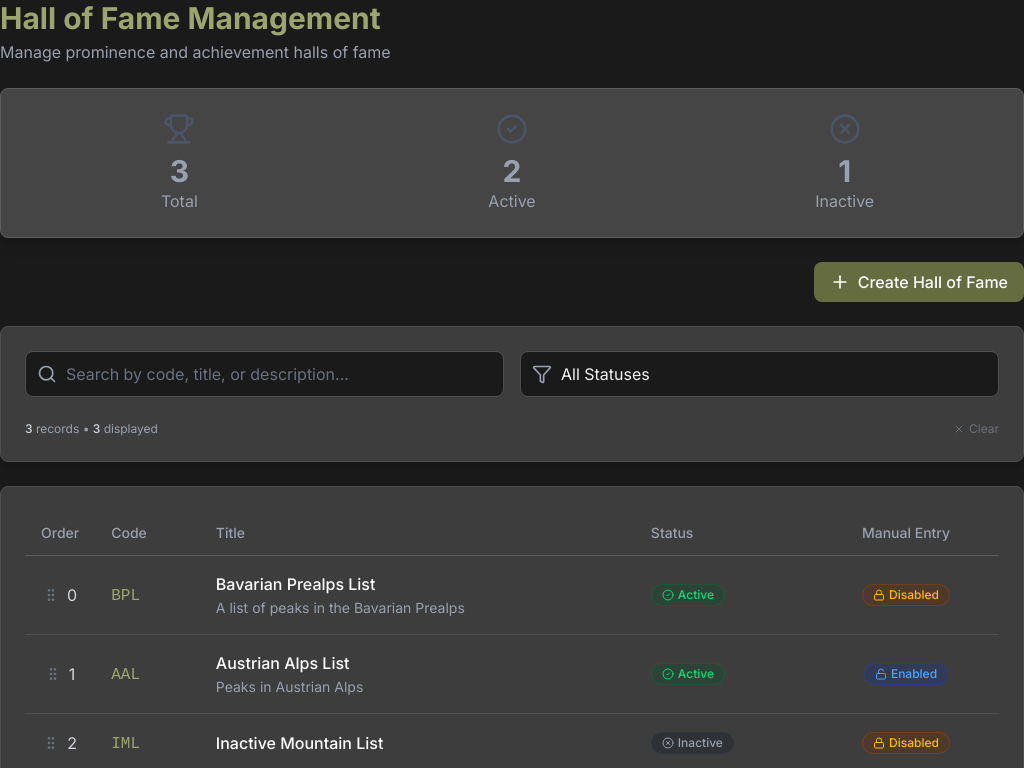
HofManagement › should filter by active status
Expected: the text "BPL" is shown, [111,587,140,605]
Select "Active" in the dropdown at (760, 374), box [520,351,999,397]
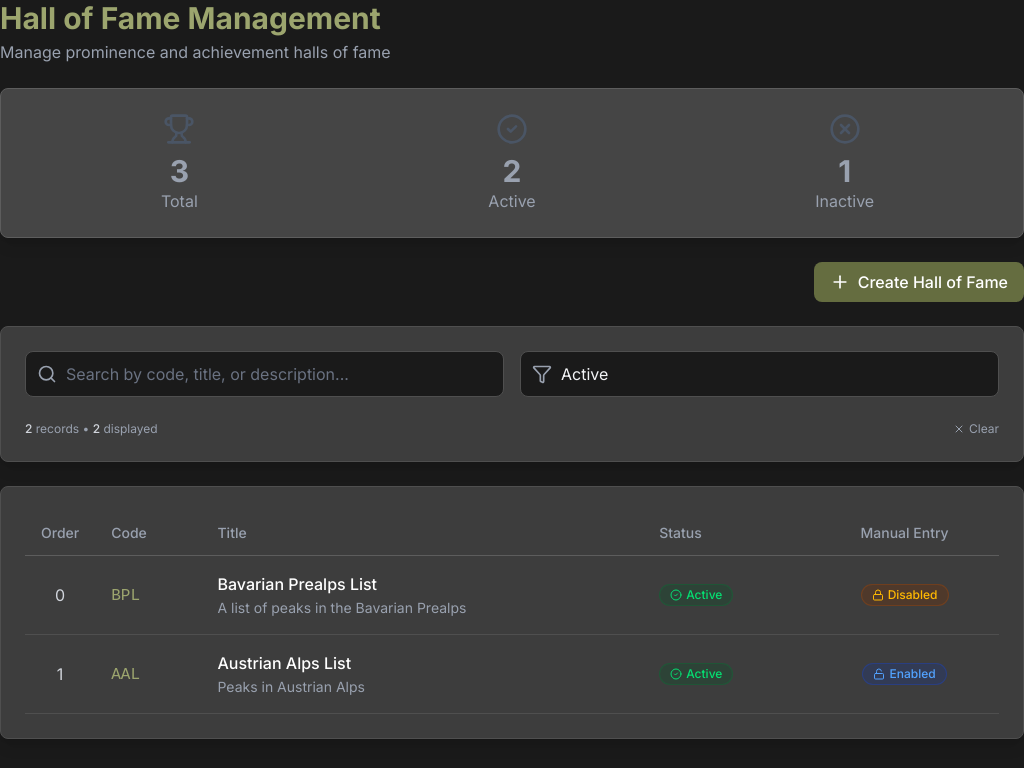
Expected: the text "BPL" is shown, [111,587,140,605]
Expected: the text "IML" is gone
